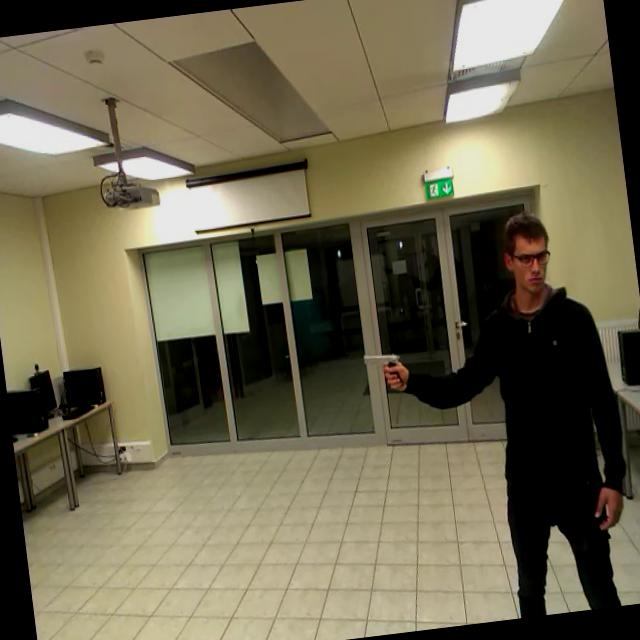handgun: (353, 336, 411, 400)
